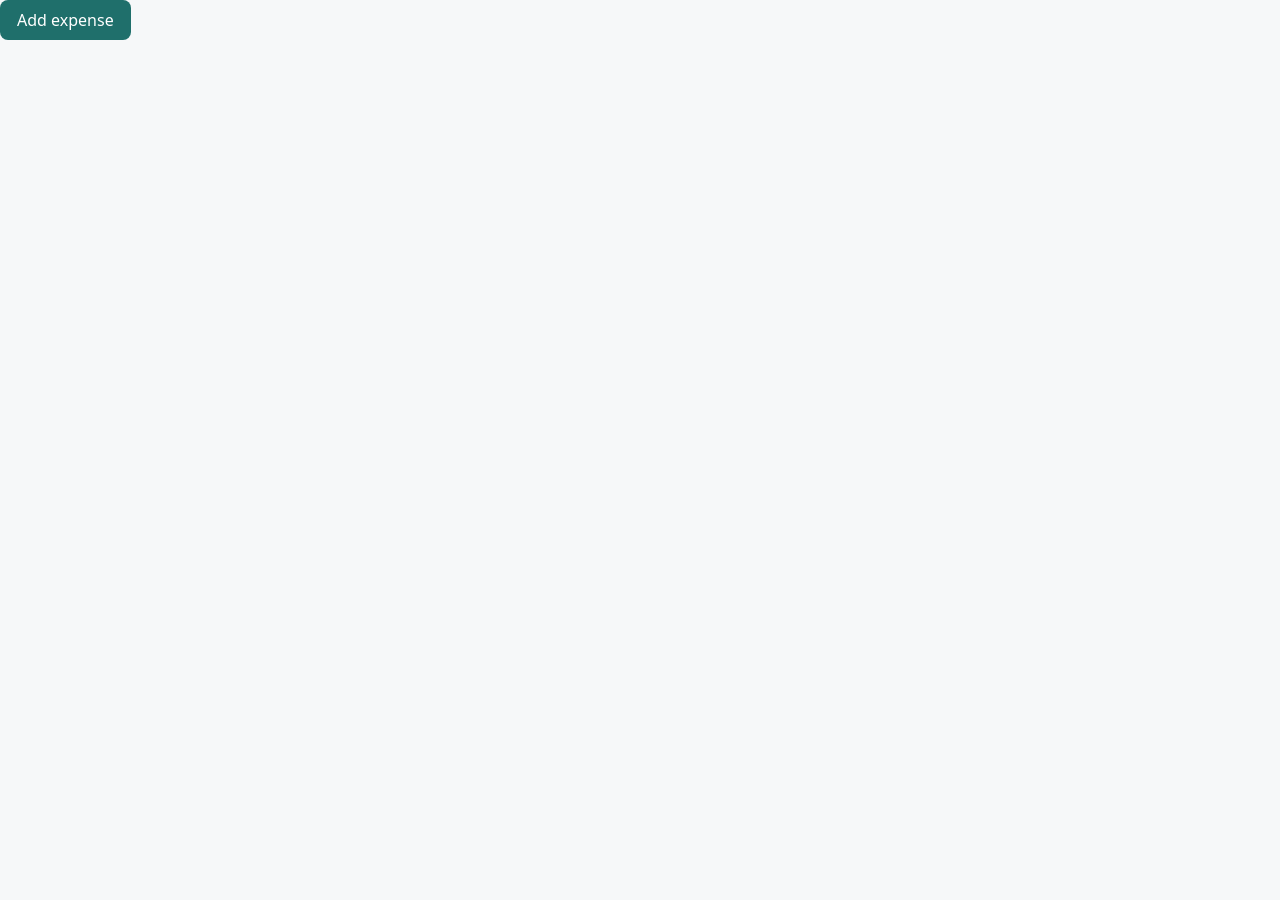
it: AddExpense announcements › adding 20 / Groceries / default date puts the exact message in the same element, focus on Add expense
Click the button "Add expense".
click(65, 20)  # box [0,0,131,40]
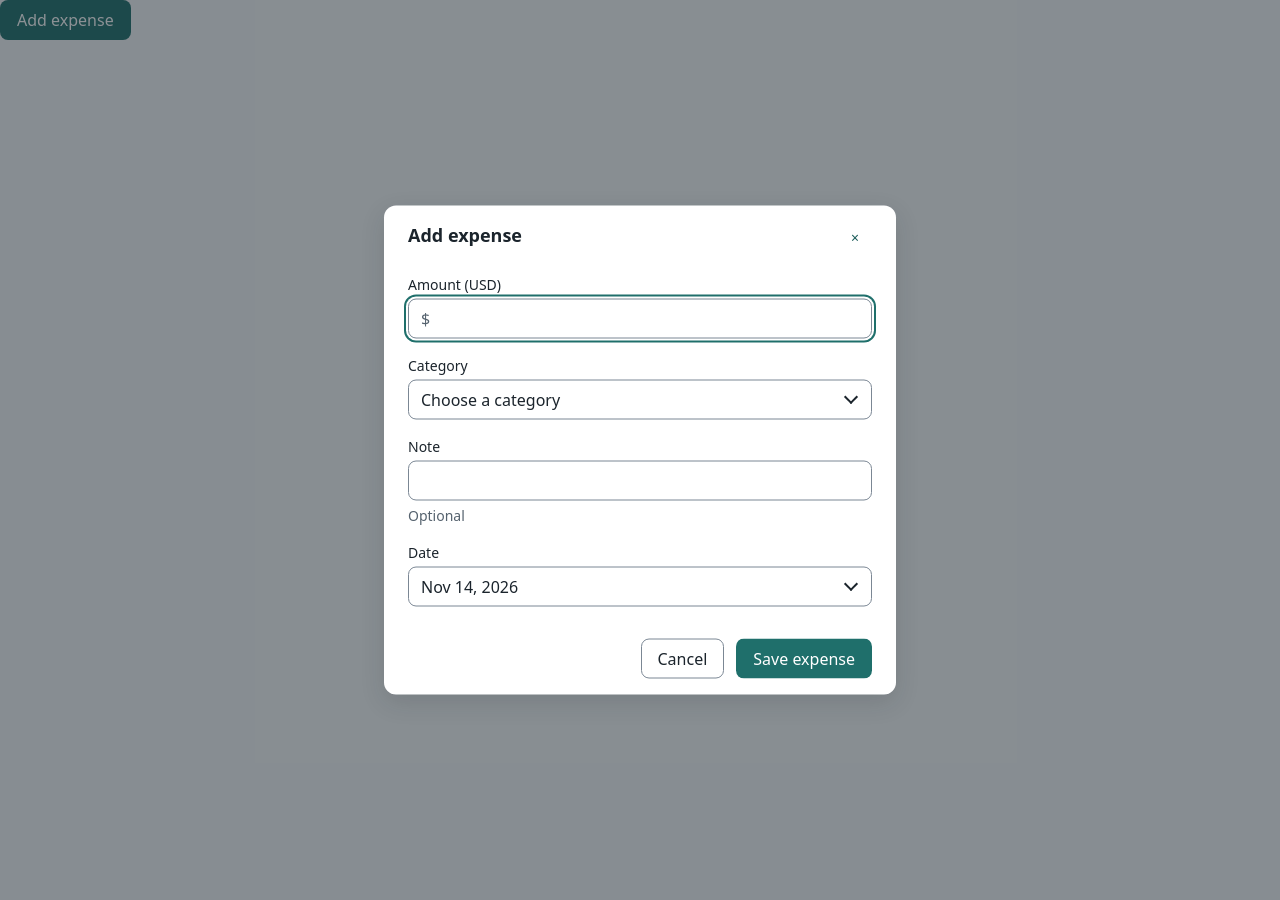
Type "20" into the field labelled "Amount (USD)".
click(649, 318); type("20")  # box [438,300,859,338]
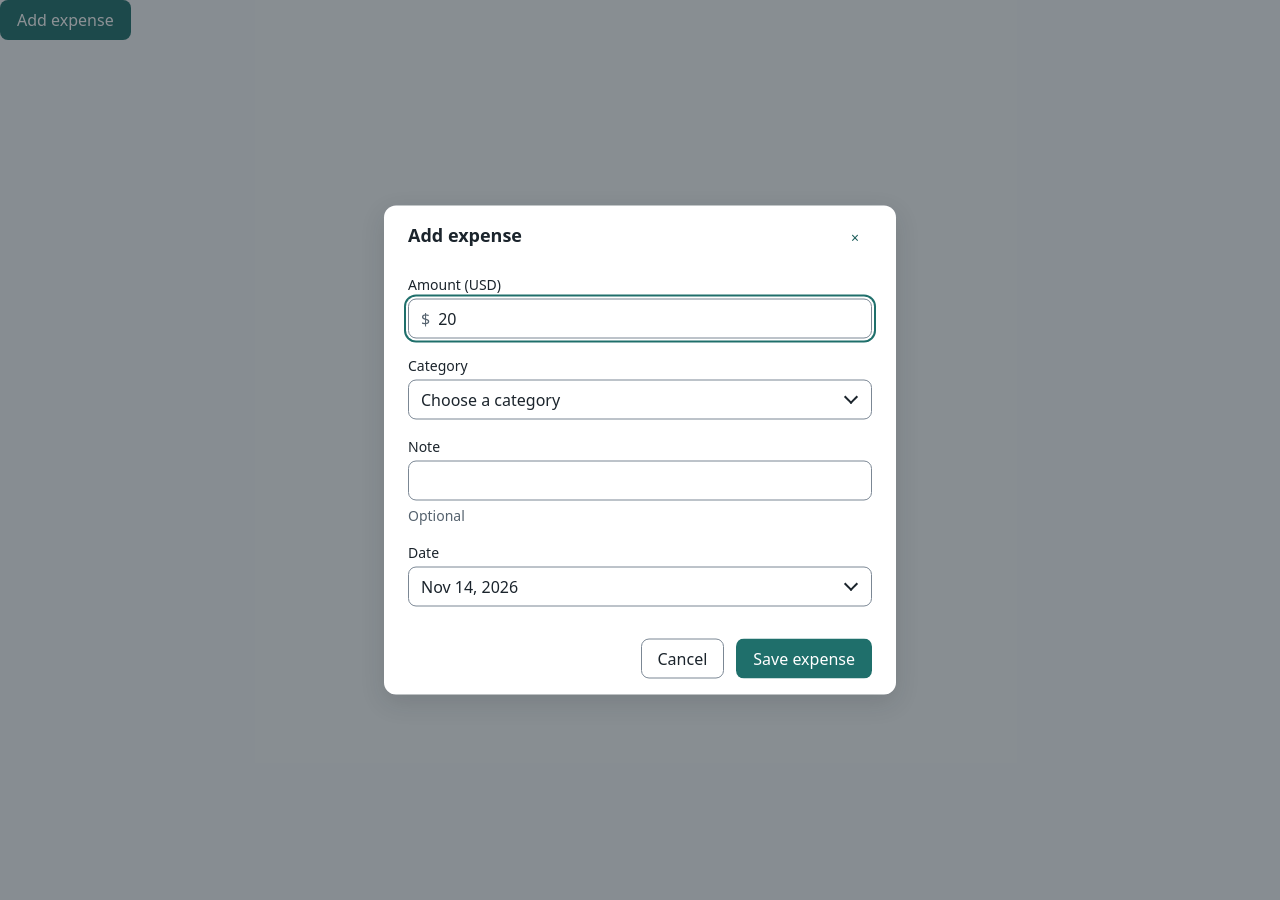
Select "Groceries" in the dropdown labelled "Category" at (640, 400), box [408,380,872,420]
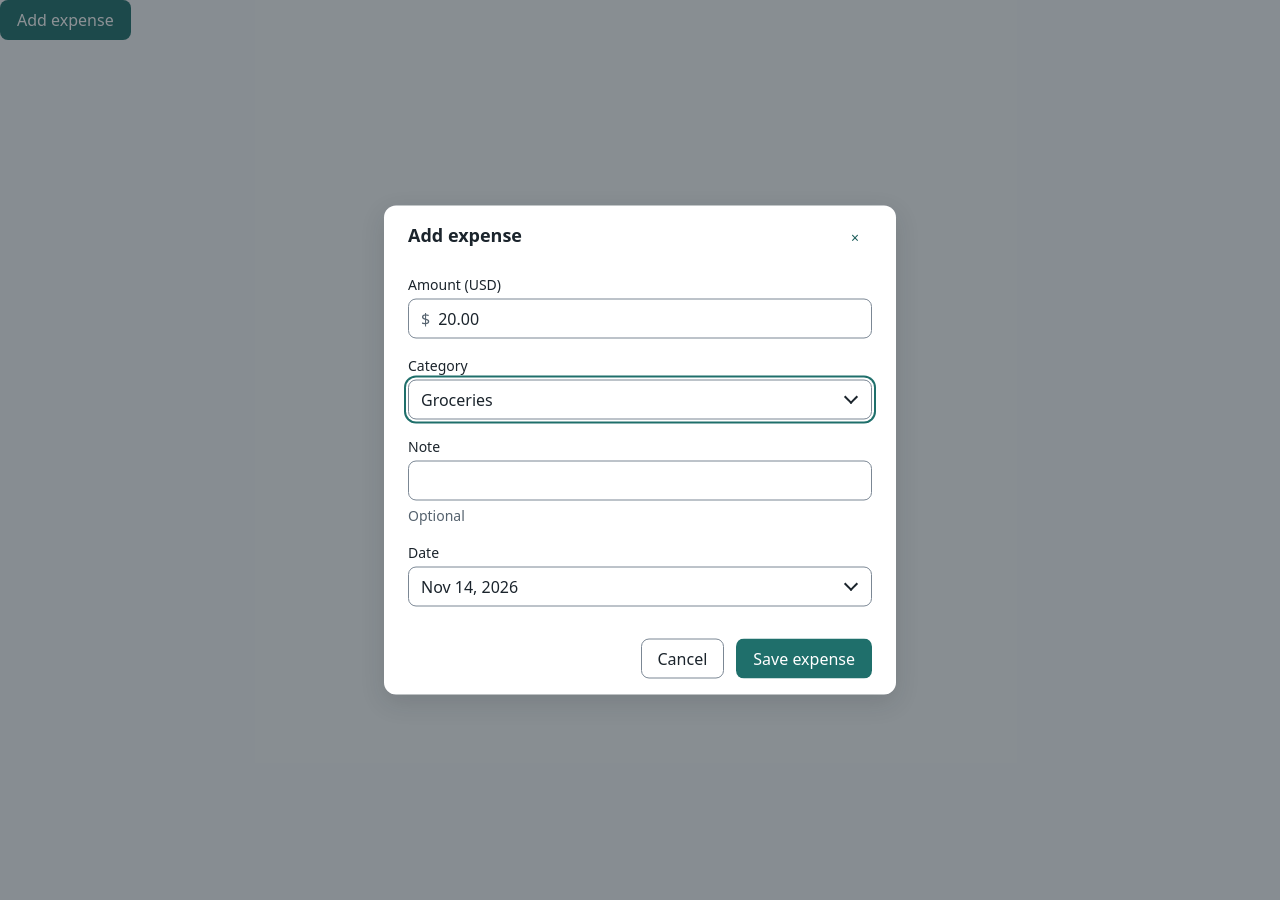
Click the button "Save expense".
click(804, 658)  # box [736,638,872,678]
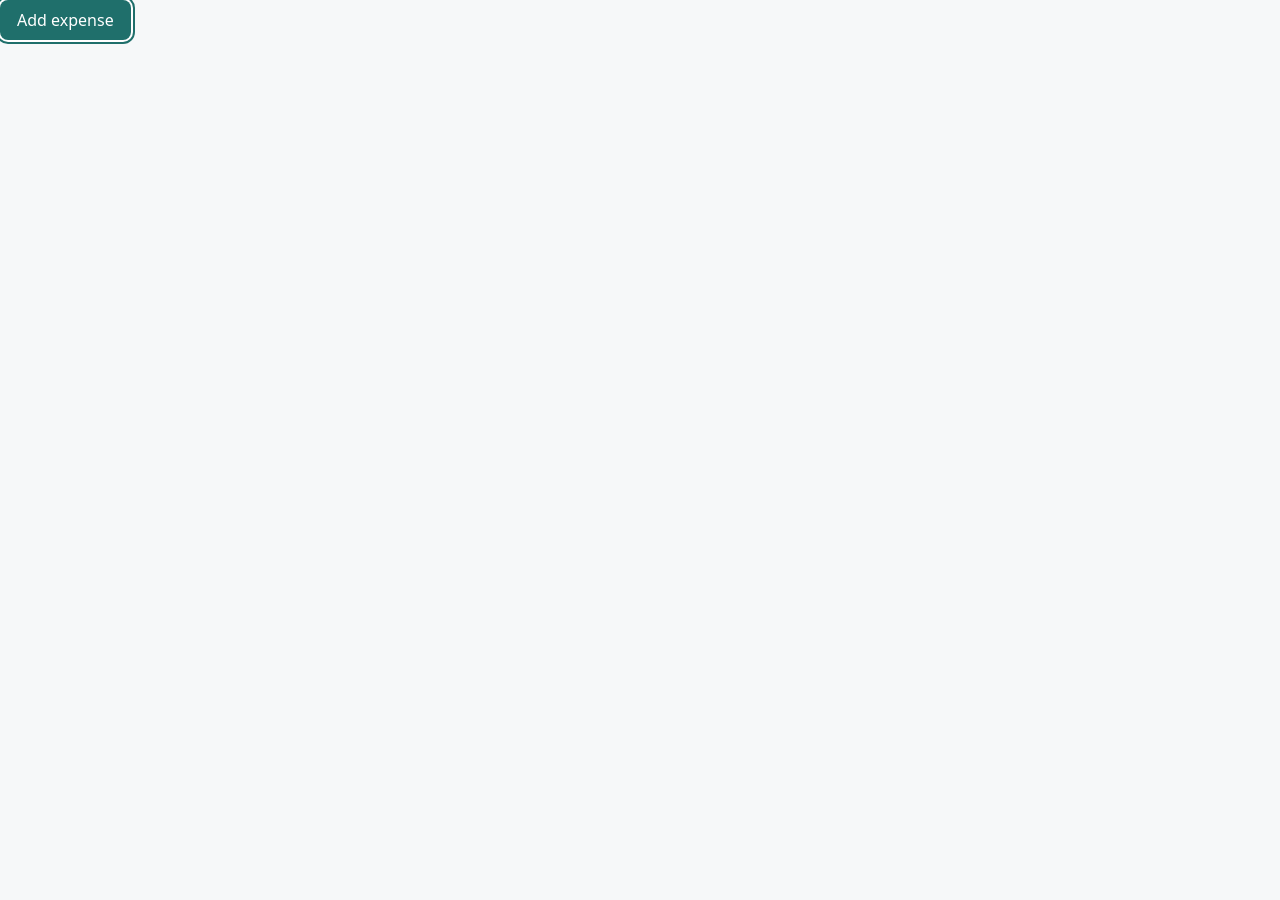
Expected: the dialog is gone
